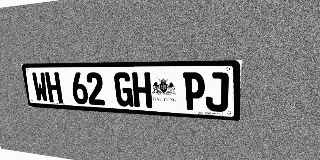2: (86, 72, 105, 105)
6: (70, 72, 89, 104)
G: (114, 72, 134, 107)
H: (132, 72, 152, 108), (45, 72, 63, 103)
J: (206, 72, 229, 112)
P: (183, 72, 205, 111)
W: (31, 72, 49, 102)
